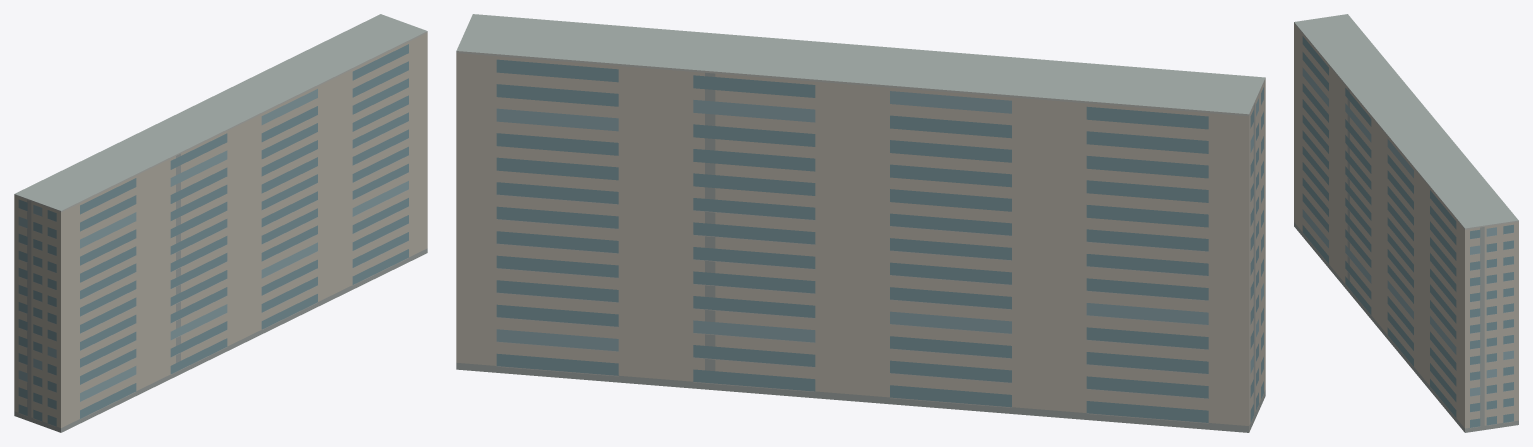
File: residential-871e15dc-4a43-4a27-aec3-41c11d762e65.glb
3 renders of one model, left to right at view 1: azimuth 30°, elevation 25°; view 2: azimuth 150°, elevation 25°; view 3: azimuth 270°, elevation 25°, orthographic. The views are drawn at different scales.
Parts seen in each view (by area): view 1: residential-871e15dc-4a43-4a27-aec3-41c11d762e65.tmp; view 2: residential-871e15dc-4a43-4a27-aec3-41c11d762e65.tmp; view 3: residential-871e15dc-4a43-4a27-aec3-41c11d762e65.tmp.
Part boxes in pixels (x1,y1,x2,y2): residential-871e15dc-4a43-4a27-aec3-41c11d762e65.tmp: (14, 14, 427, 432); residential-871e15dc-4a43-4a27-aec3-41c11d762e65.tmp: (456, 14, 1265, 432); residential-871e15dc-4a43-4a27-aec3-41c11d762e65.tmp: (1294, 14, 1518, 432).
Size of the model in its own units: 89.2 by 39.65 by 39.51.
